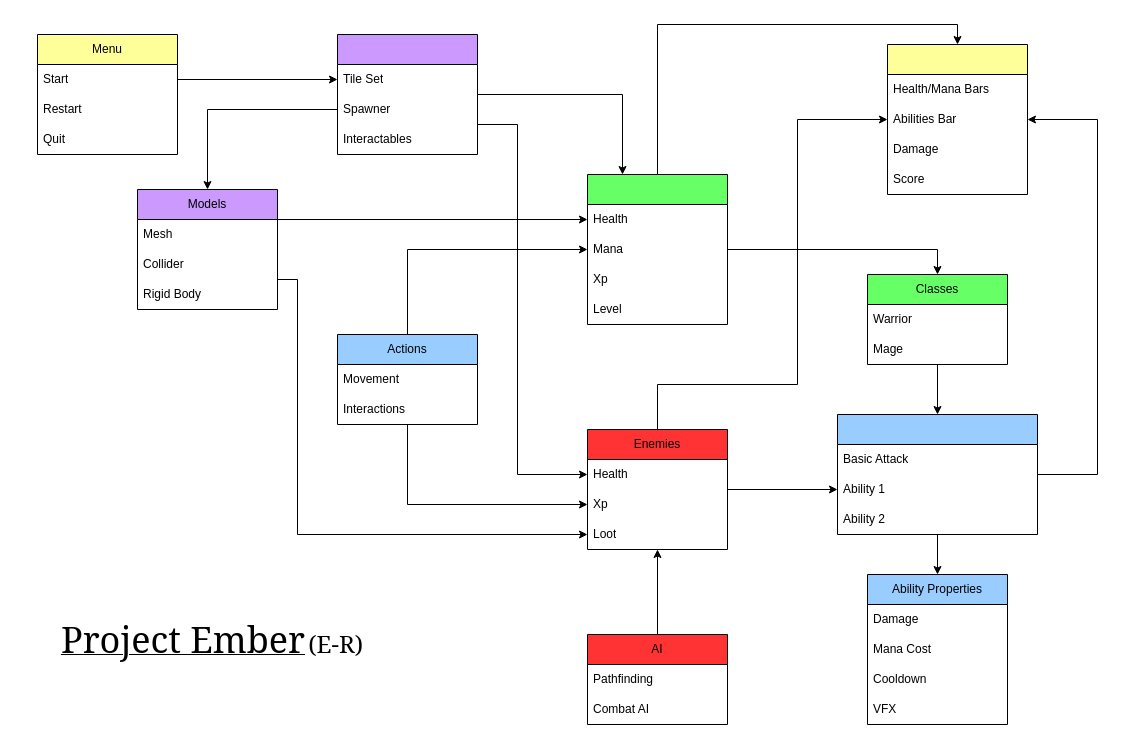
Image size: 1123x742. Some labels were removed from this diagram. Each missing label, with the box of its shape:
Abilities: (836, 414, 1038, 534)
Map: (336, 34, 478, 154)
Player: (586, 174, 728, 324)
UI: (886, 44, 1028, 194)
